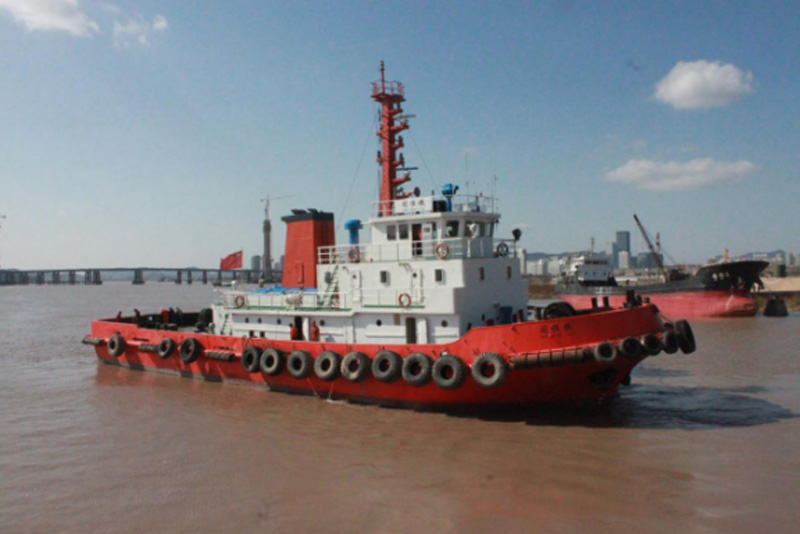otherboat: (73, 62, 701, 410)
